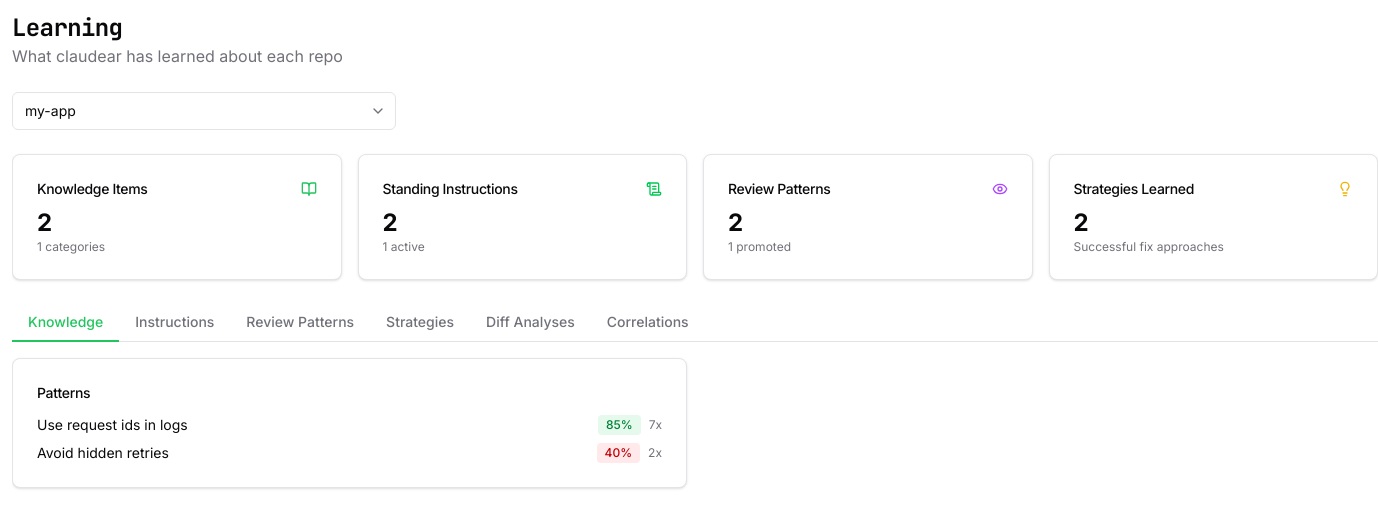
Test: LearningPage (deeper coverage) › loads repo from query param and renders all tab branches
The image size is (1378, 515).
Expected: the heading "Knowledge Items" is shown, [37,179,148,199]
Expected: the heading "Patterns" is shown, [37,384,90,401]
Click the button "Instructions". click: (175, 323)
box: [119,304,230,342]
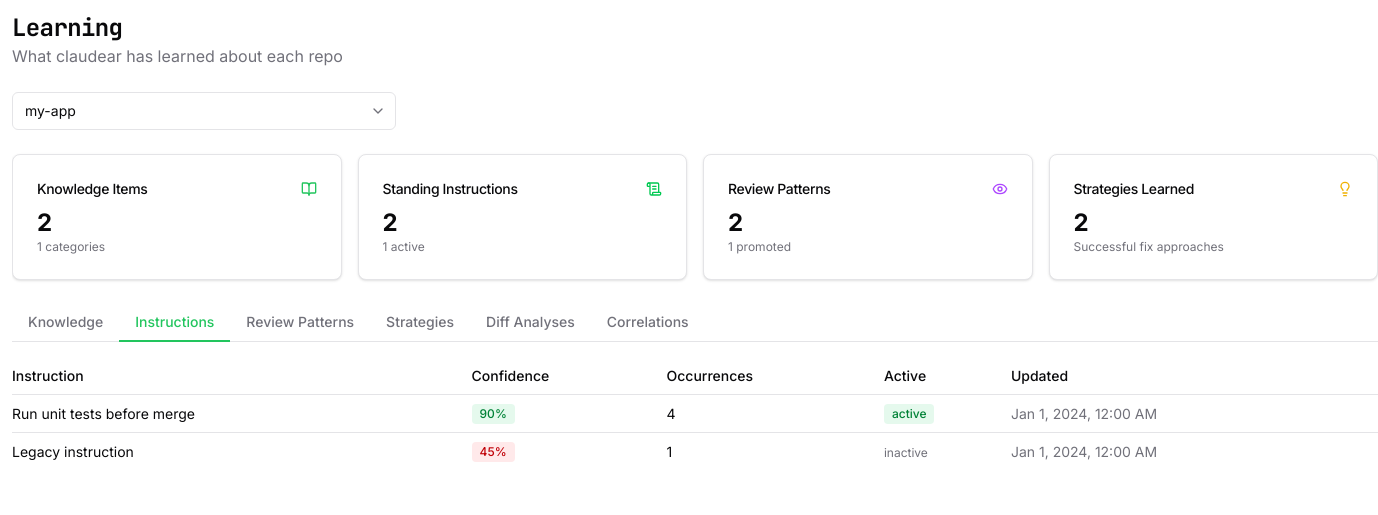
Now the text "Run unit tests before merge" is shown, box [12,404,195,422]
Now the text "active" is shown, box [884,404,934,424]
Now the text "inactive" is shown, box [884,444,928,460]
Click the button "Review Patterns". click: (300, 323)
box: [230,304,370,342]
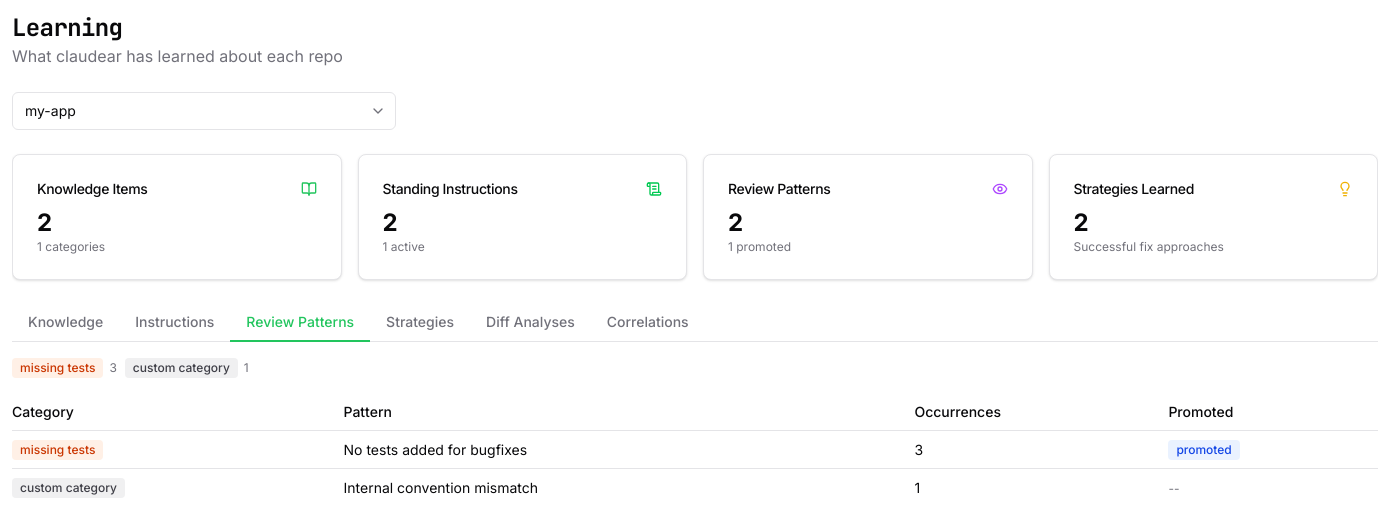
Now the text "No tests added for bugfixes" is shown, box [344,440,527,458]
Now the text "promoted" is shown, box [1168,440,1240,460]
Click the button "Strategies". click: (420, 323)
box: [370,304,470,342]
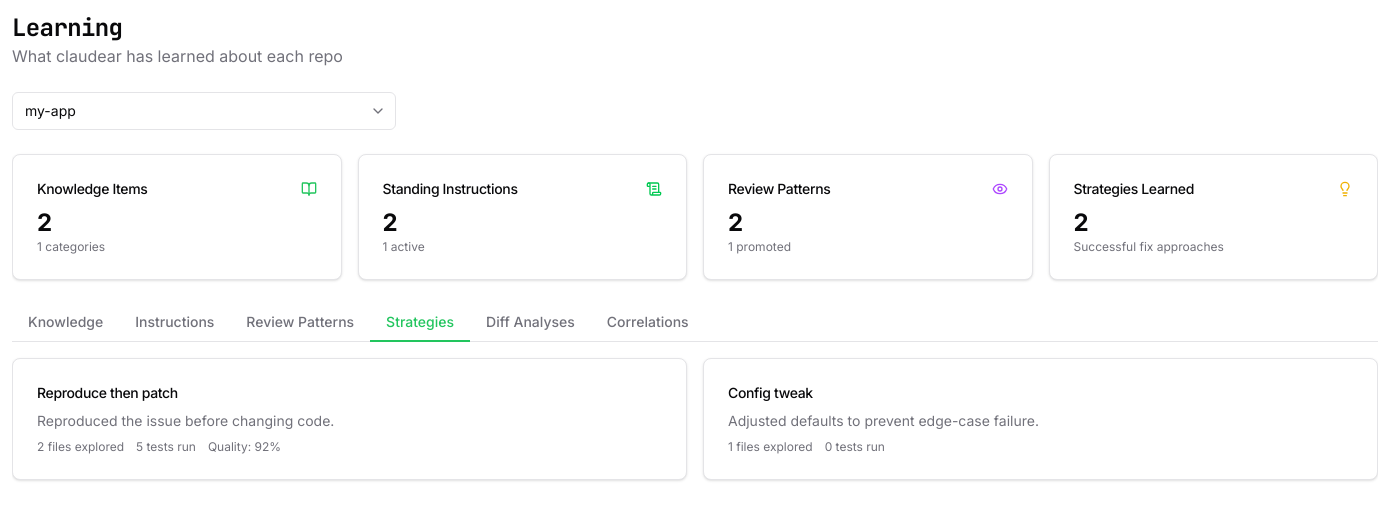
Now the text "Reproduced the issue before changing code." is shown, box [37,412,334,429]
Now the text "Quality: 92%" is shown, box [208,439,281,455]
Now the heading "Config tweak" is shown, box [728,384,813,401]
Click the button "Diff Analyses". click: (530, 323)
box: [470,304,591,342]
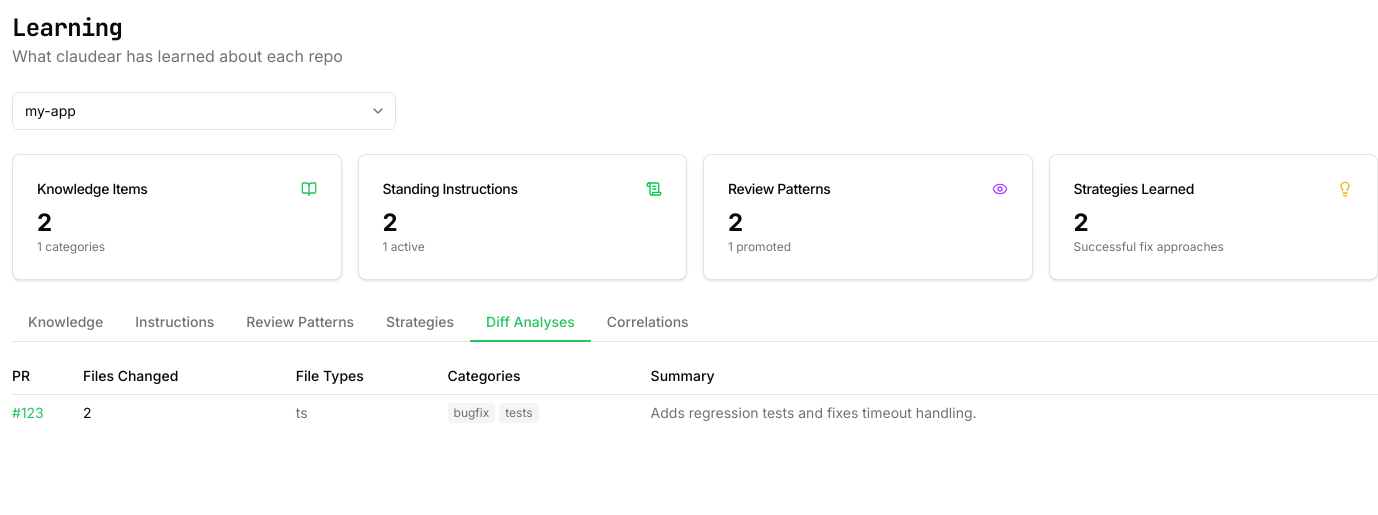
Now the text "tests" is shown, box [499,403,539,423]
Now the link "#123" is shown, box [12,404,44,421]
Now the text "bugfix" is shown, box [448,403,495,423]
Click the button "Correlations". click: (648, 323)
box: [591,304,705,342]
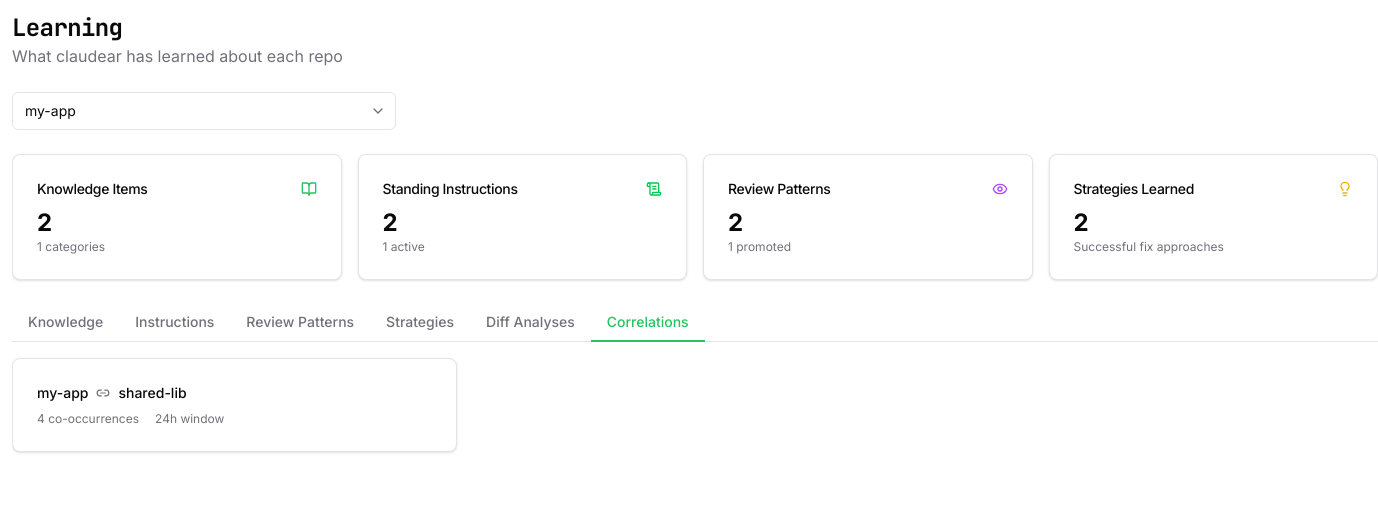
Now the text "shared-lib" is shown, box [118,383,187,403]
Now the text "4 co-occurrences" is shown, box [37,411,139,427]
Now the text "24h window" is shown, box [155,411,224,427]
